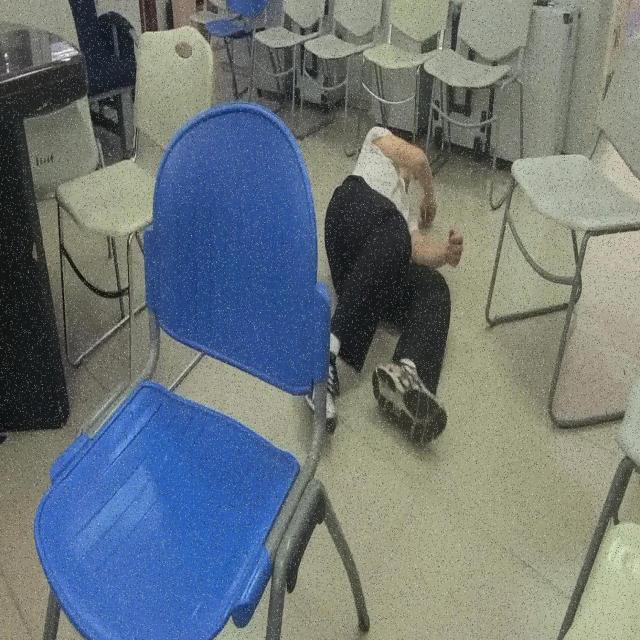fall: (300, 126, 465, 450)
